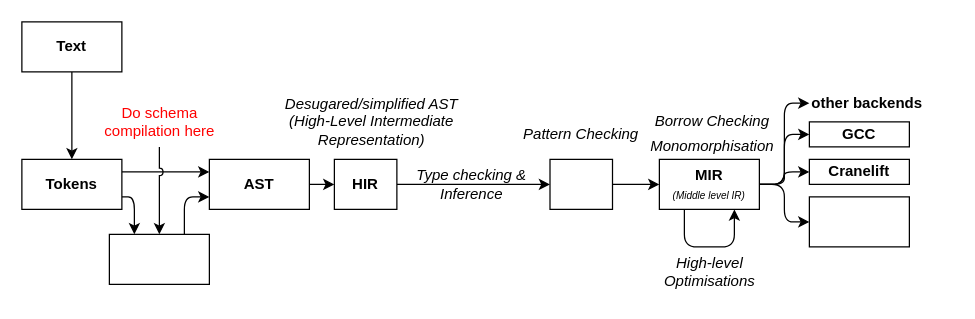
Some shapes in this 975 by 319 pixel diagram are drawn without their labels. Each missing label, with the box of its shape:
LLVM: (808, 196, 909, 247)
Proc Macros: (108, 233, 209, 284)
THIR (Typed HIR): (549, 158, 612, 209)
